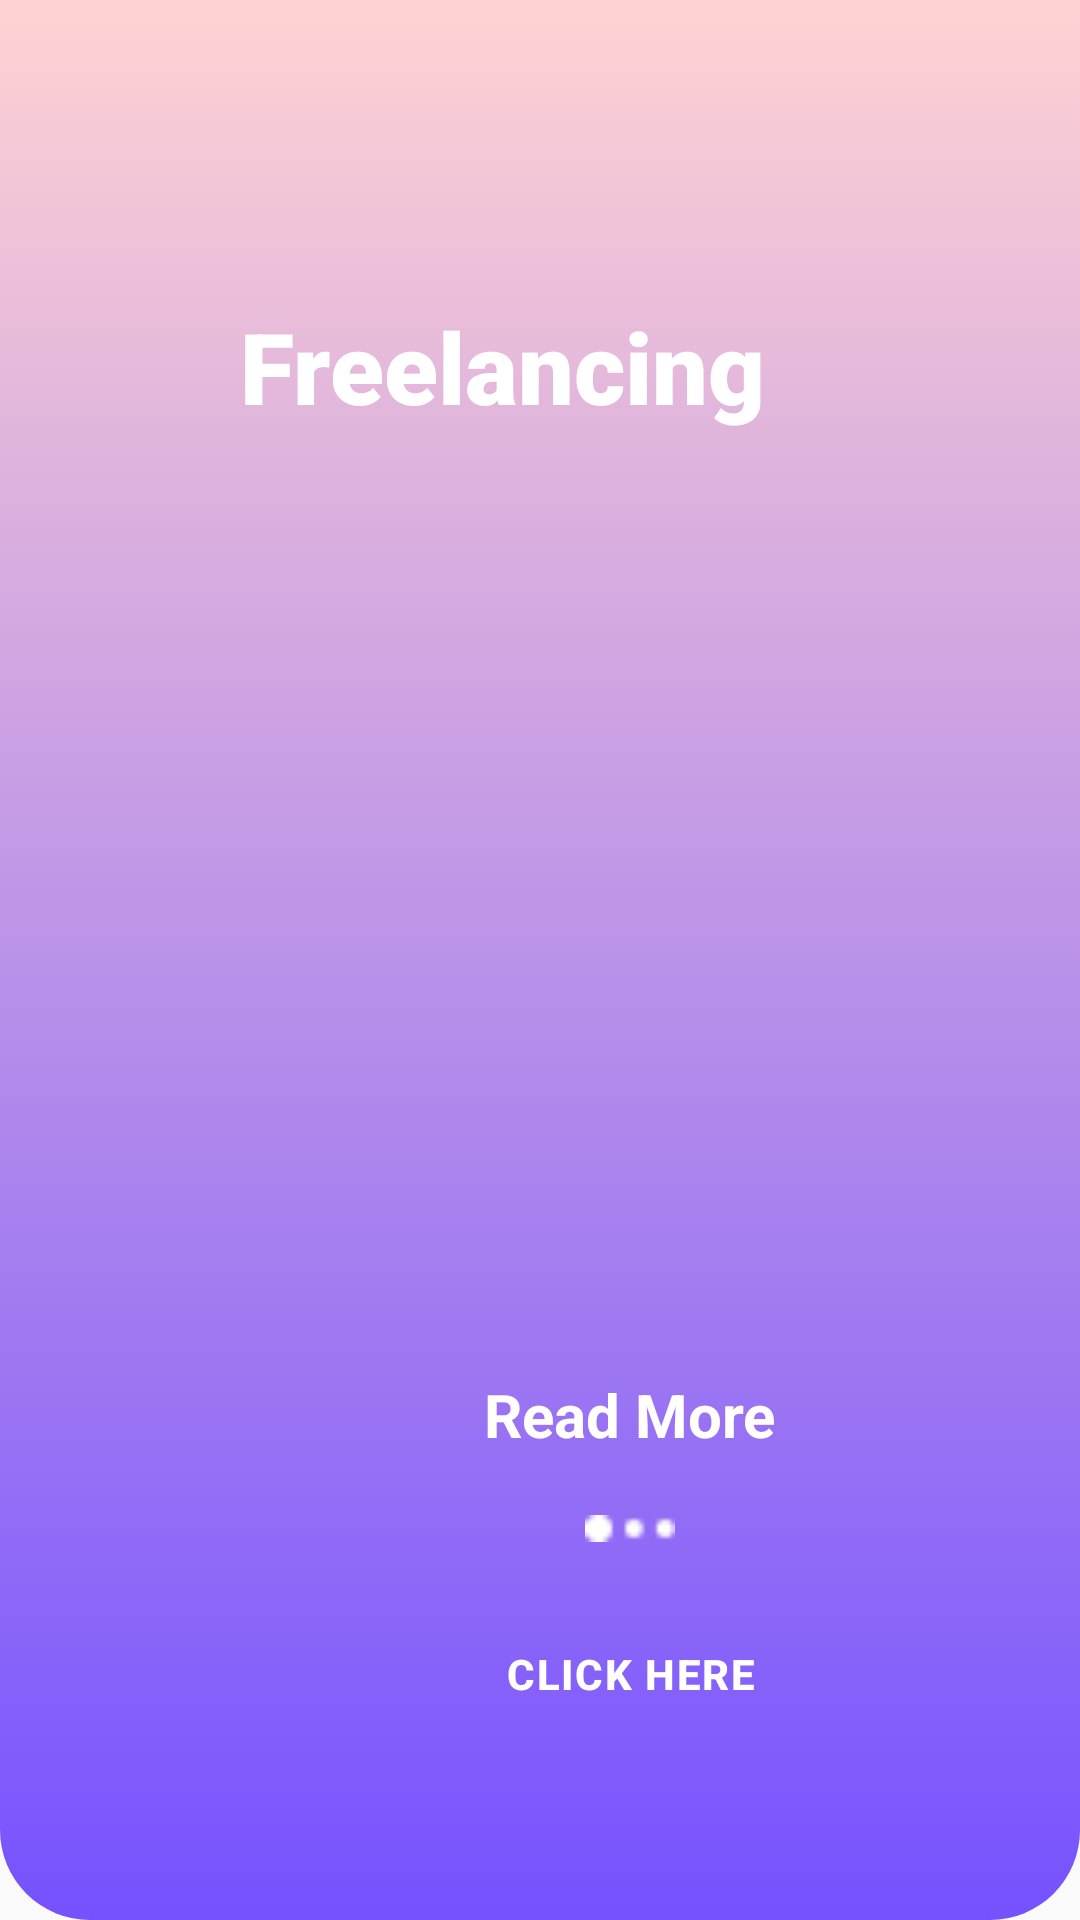

Icons on this 1080x1920 Android screen, each with its box as (x1, y1, x2, y2):
dot: (585, 1515, 675, 1542)
